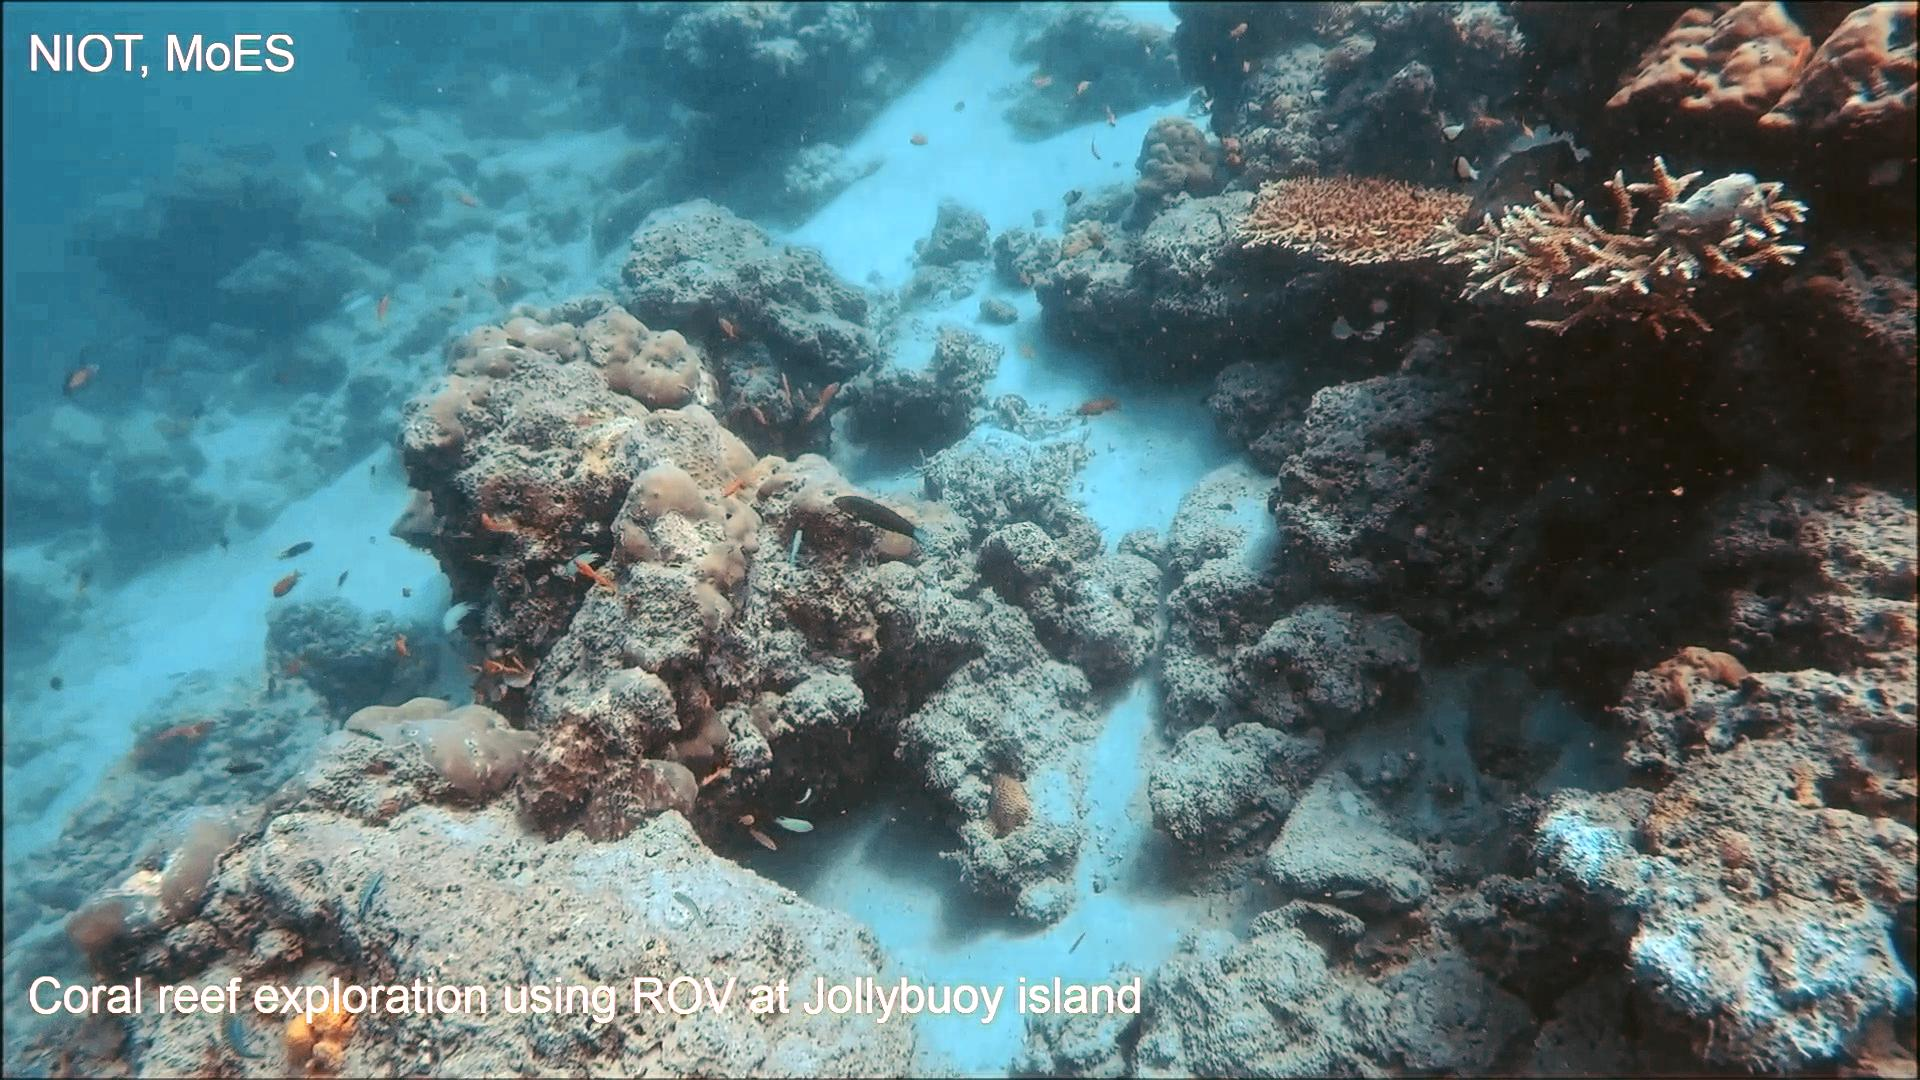Porites-Porites pukoensis: (555, 296, 803, 633)
